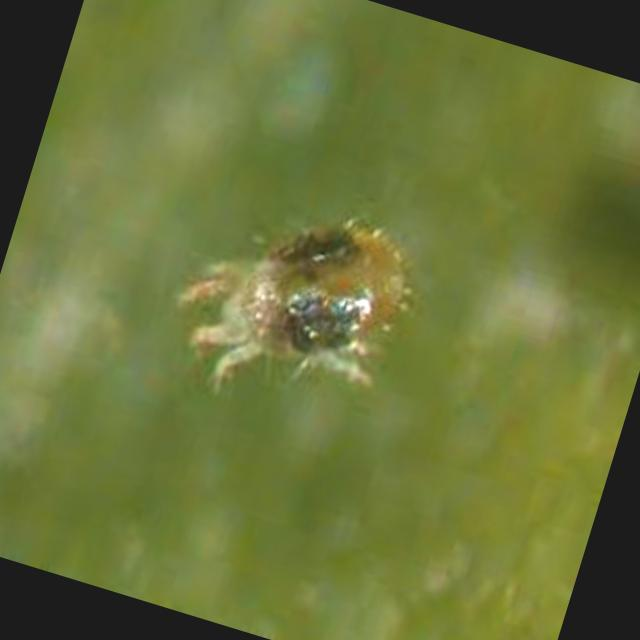spider mite: (118, 128, 450, 454)
